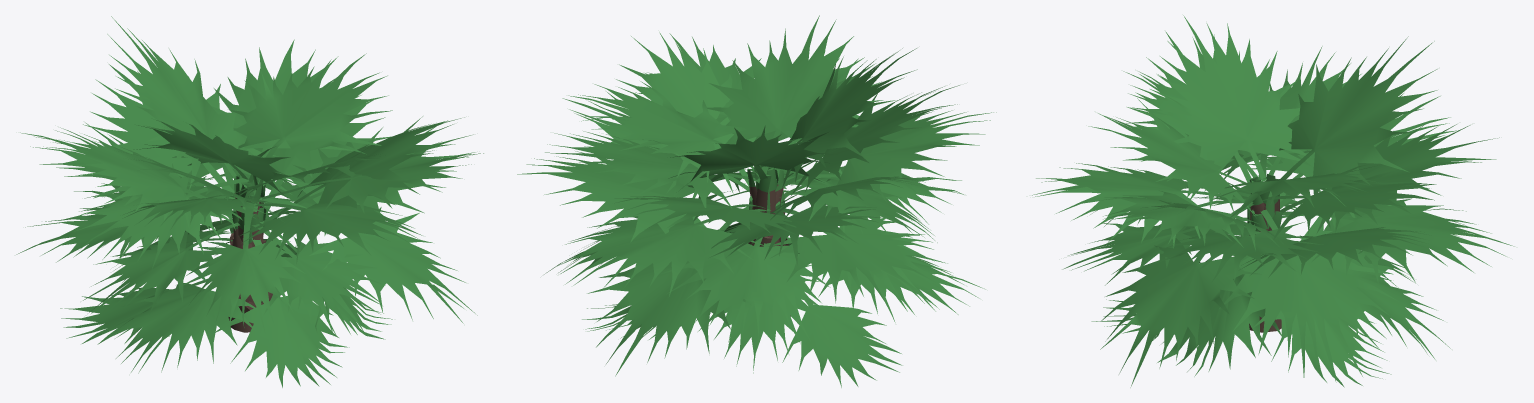
Rendered from plant_cab_A.fbx.
3 views of the same model, side by side, from view 1: azimuth 30°, elevation 25°; view 2: azimuth 150°, elevation 25°; view 3: azimuth 270°, elevation 25° (orthographic). The views are drawn at different scales.
Visible parts, largest first — view 1: leaf_cab_A_8, leaf_cab_A_30, leaf_cab_A_19, leaf_cab_A_28, leaf_cab_A_22, leaf_cab_A_25, leaf_cab_A_23, leaf_cab_A_21, leaf_cab_A_18, leaf_cab_A_24, leaf_cab_A_6, leaf_cab_A_2 (+18 smaller); view 2: leaf_cab_A_5, leaf_cab_A_11, leaf_cab_A_13, leaf_cab_A_14, leaf_cab_A_20, leaf_cab_A_8, leaf_cab_A_1, leaf_cab_A_7, leaf_cab_A_31, leaf_cab_A_3, leaf_cab_A_6, leaf_cab_A_29 (+15 smaller); view 3: leaf_cab_A_7, leaf_cab_A_12, leaf_cab_A_30, leaf_cab_A_19, leaf_cab_A_11, leaf_cab_A_18, leaf_cab_A_5, leaf_cab_A_0, leaf_cab_A_26, leaf_cab_A_29, leaf_cab_A_16, leaf_cab_A_17 (+12 smaller).
Part boxes in pixels (x1,y1,x2,y2): leaf_cab_A_8: (228,53,392,190); leaf_cab_A_30: (107,16,253,190); leaf_cab_A_19: (259,197,477,323); leaf_cab_A_28: (215,238,349,387); leaf_cab_A_22: (180,201,305,331); leaf_cab_A_25: (113,283,266,373); leaf_cab_A_23: (252,224,385,335); leaf_cab_A_21: (74,163,249,268); leaf_cab_A_18: (240,203,422,263); leaf_cab_A_24: (83,222,239,314); leaf_cab_A_6: (263,117,464,234); leaf_cab_A_2: (43,134,242,232); leaf_cab_A_5: (707,15,883,174); leaf_cab_A_11: (557,209,770,296); leaf_cab_A_13: (661,237,830,342); leaf_cab_A_14: (587,206,748,376); leaf_cab_A_20: (768,208,935,311); leaf_cab_A_8: (568,81,759,193); leaf_cab_A_1: (517,151,706,242); leaf_cab_A_7: (769,48,917,189); leaf_cab_A_31: (782,300,902,387); leaf_cab_A_3: (775,110,996,201); leaf_cab_A_6: (612,32,756,198); leaf_cab_A_29: (545,131,786,208); leaf_cab_A_7: (1150,15,1311,191); leaf_cab_A_12: (1219,209,1398,382); leaf_cab_A_30: (1271,36,1437,194); leaf_cab_A_19: (1100,202,1261,387); leaf_cab_A_11: (1282,199,1514,283); leaf_cab_A_18: (1032,163,1245,248); leaf_cab_A_5: (1088,98,1255,216); leaf_cab_A_0: (1280,124,1499,233); leaf_cab_A_26: (1157,221,1281,376); leaf_cab_A_29: (1262,168,1436,242); leaf_cab_A_16: (1156,221,1323,282); leaf_cab_A_17: (1099,190,1258,247).
Size of the model in its own units: 349 by 213 by 364.
